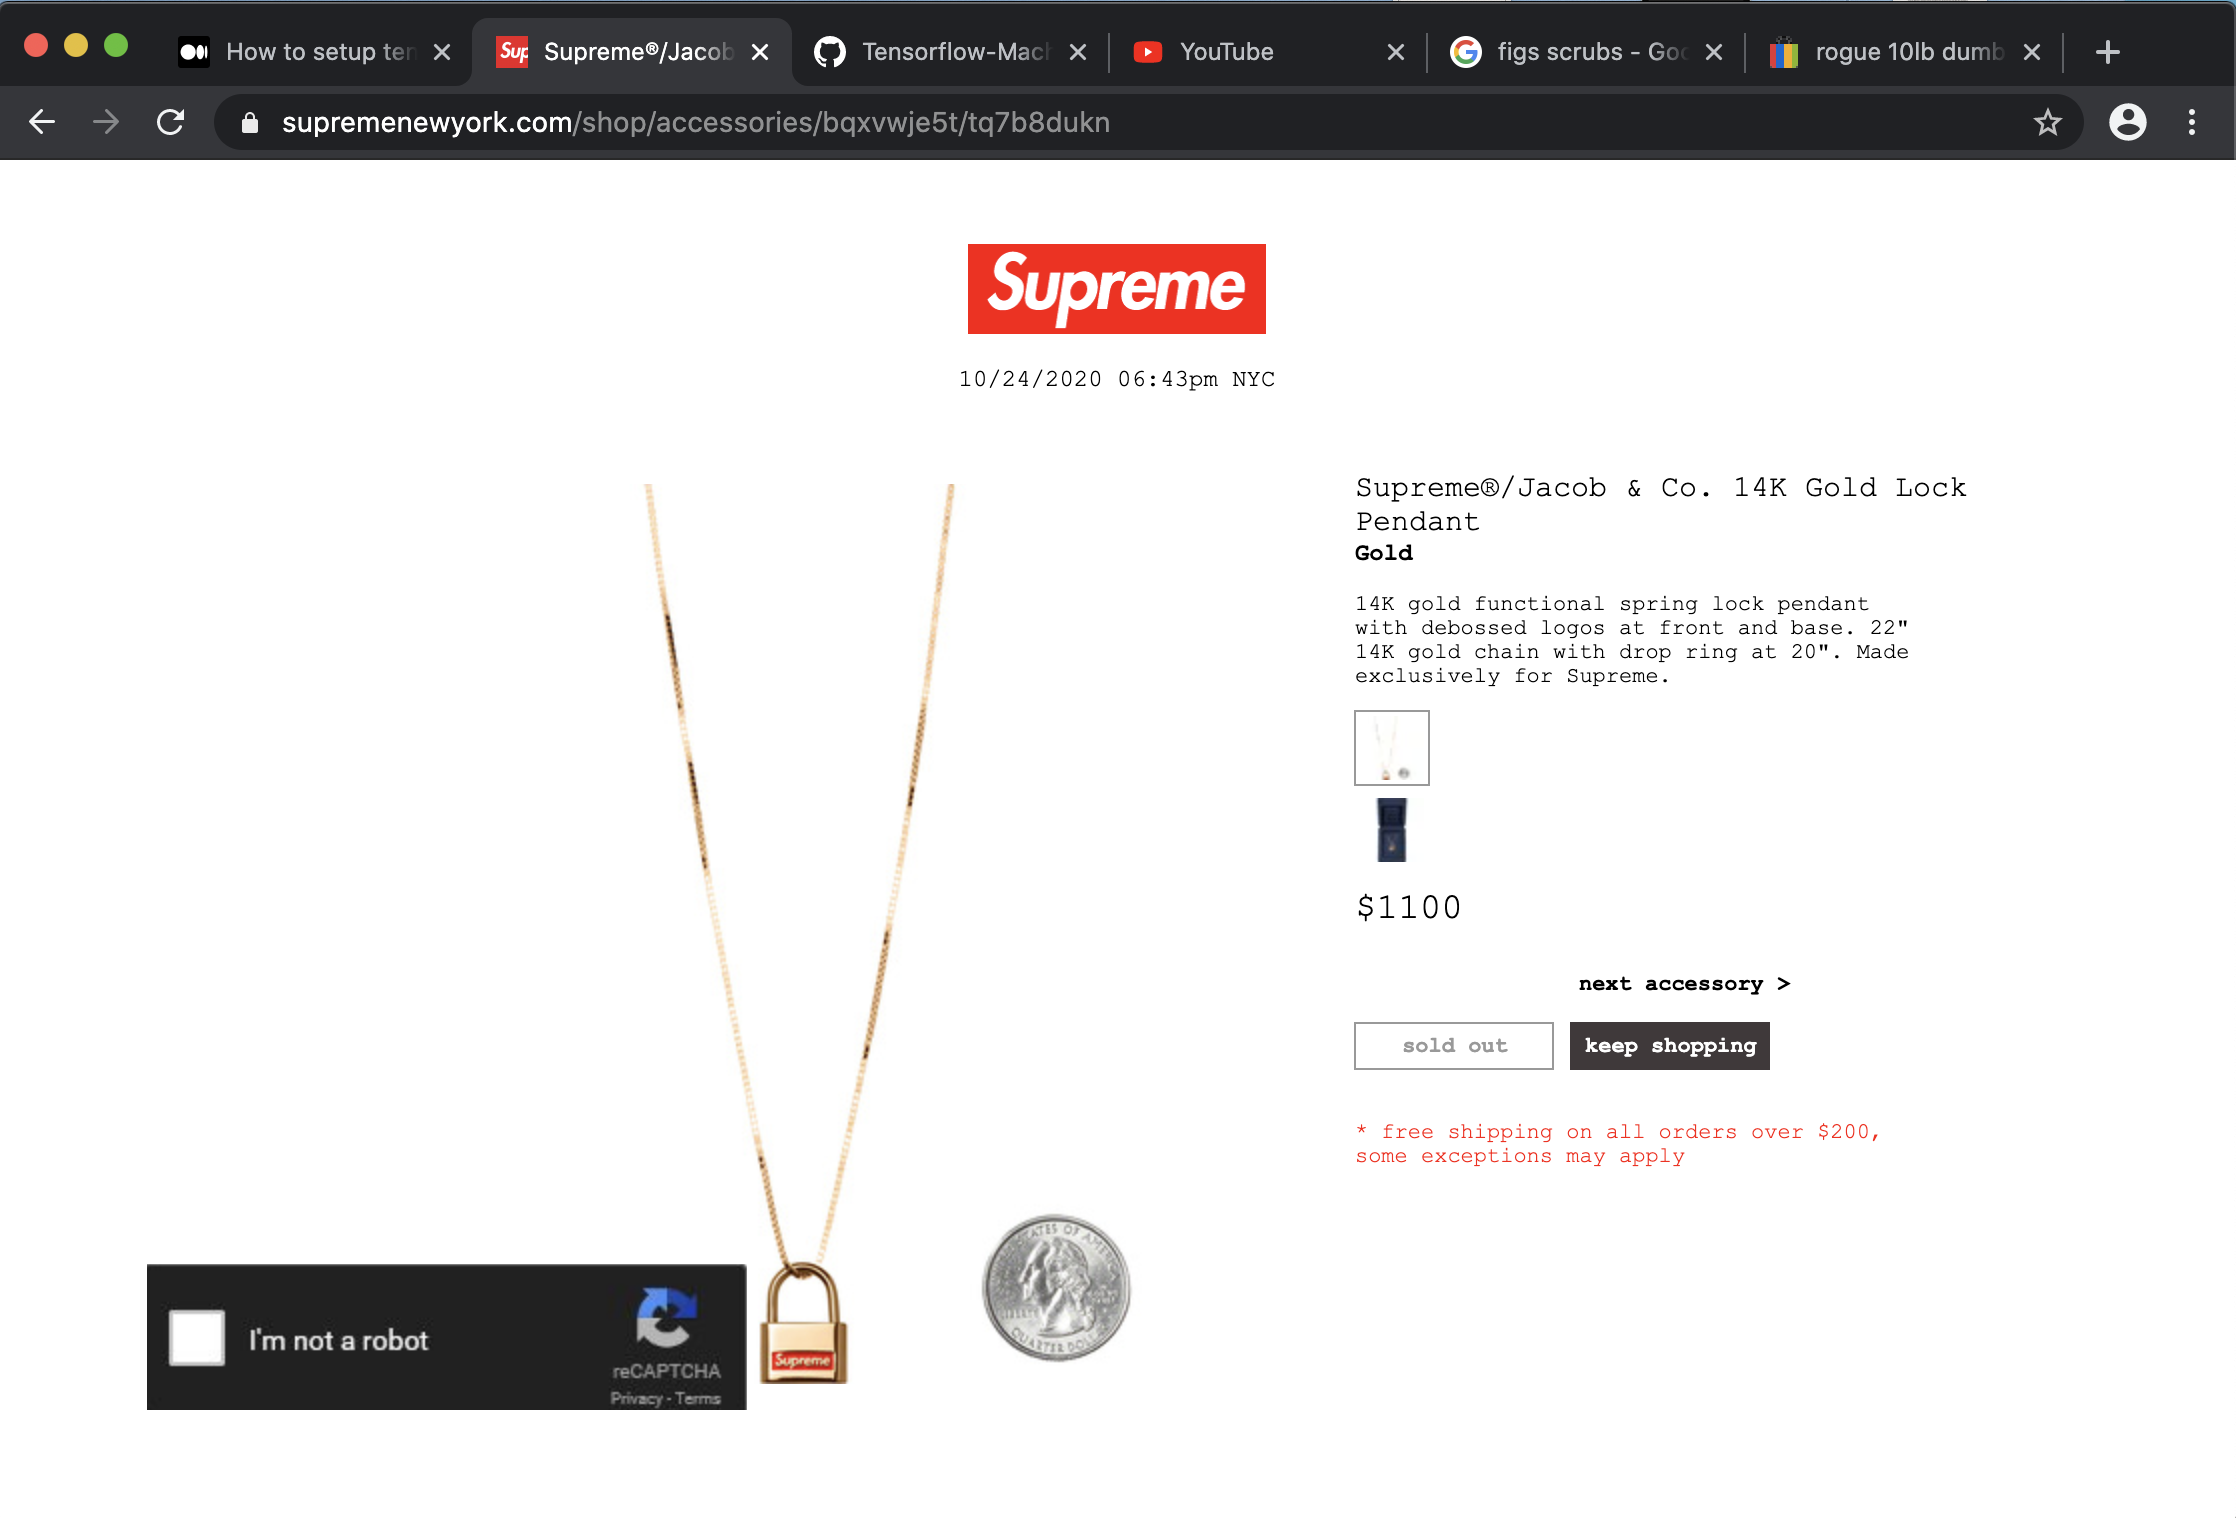captcha: (130, 1249, 771, 1438)
